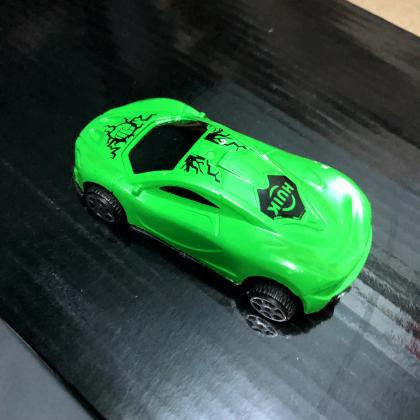Car: (73, 98, 373, 322)
